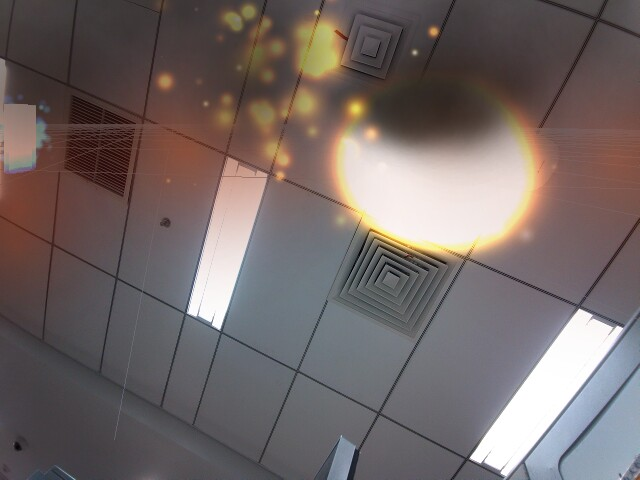fire: (329, 70, 543, 260)
